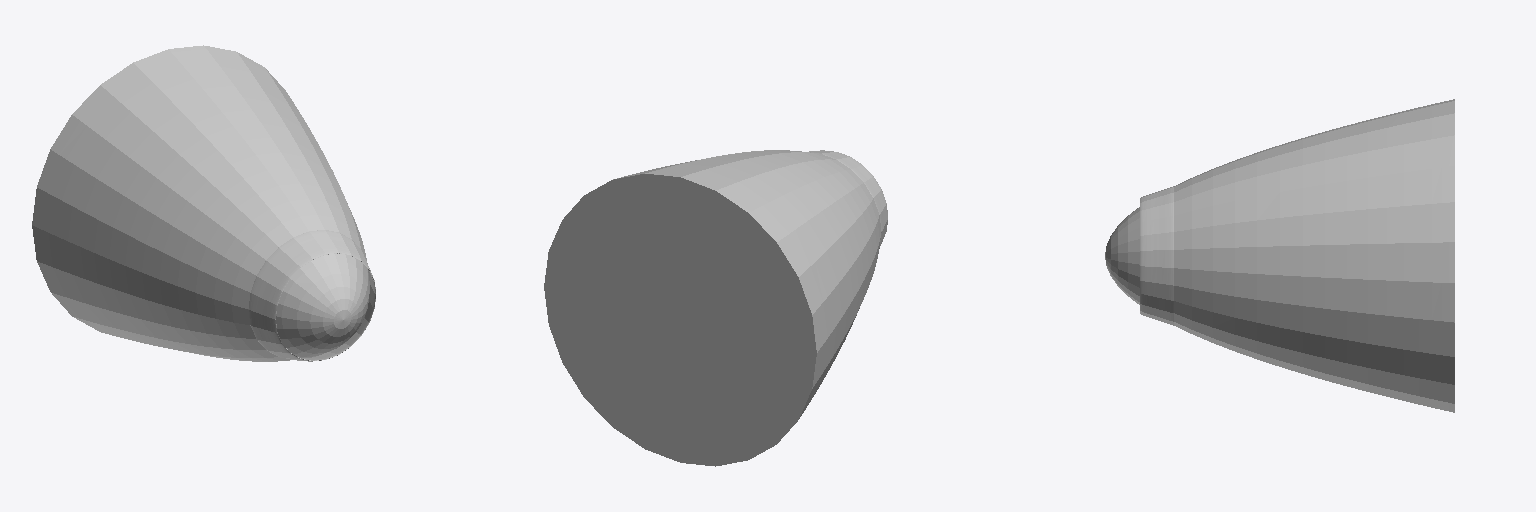
File: tennis_p2.obj
The picture shows the model from 3 angles: view 1: azimuth 30°, elevation 25°; view 2: azimuth 150°, elevation 25°; view 3: azimuth 270°, elevation 25°; orthographic projection.
Parts seen in each view (by area): view 1: obj_0; view 2: obj_0; view 3: obj_0.
Part boxes in pixels (x1,y1,x2,y2): obj_0: (32, 45, 375, 361); obj_0: (544, 150, 887, 466); obj_0: (1105, 99, 1454, 412).
Bounding box in the file's own units: 18 × 18 × 20.